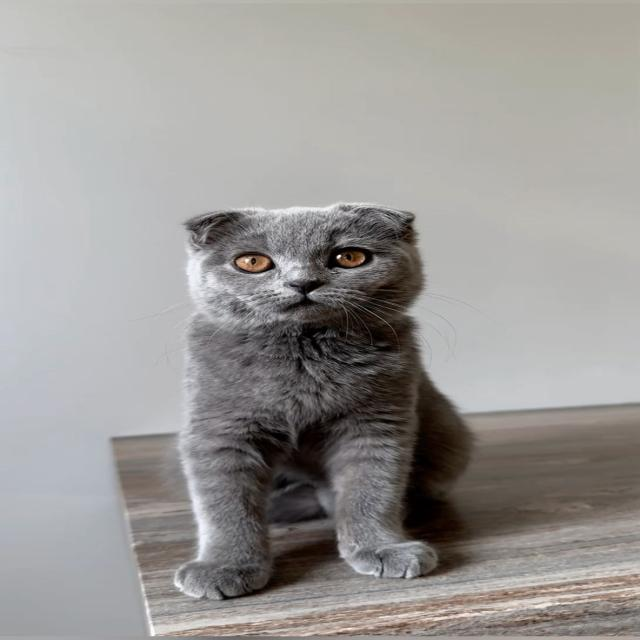british shorthair: (6, 204, 598, 598)
